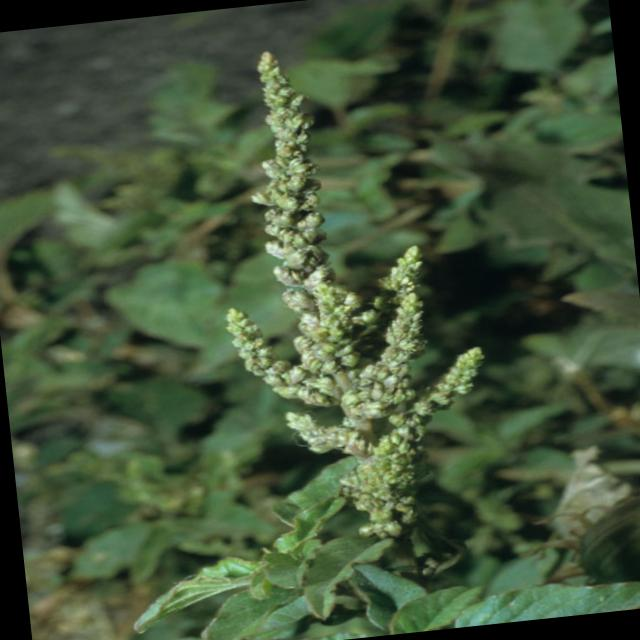Medicinal-Arive Dantu: (175, 22, 524, 640)
